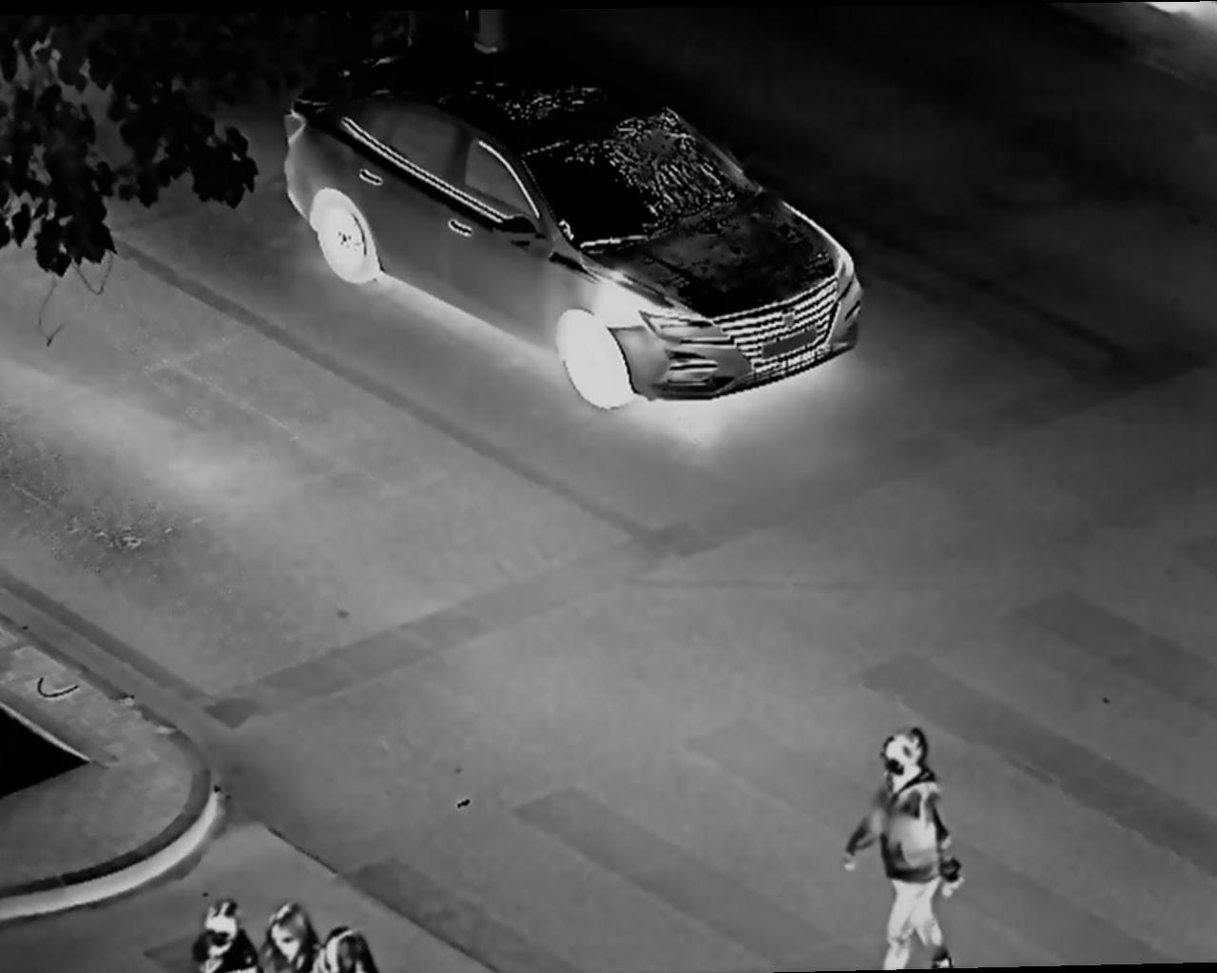person: (843, 722, 961, 973), (183, 891, 234, 973), (265, 899, 321, 973), (321, 925, 394, 973)
